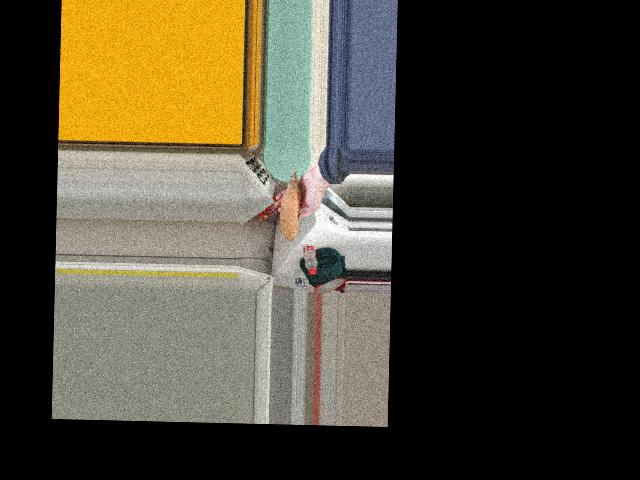sweet_potato: (280, 184, 304, 246)
